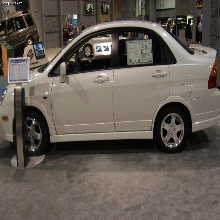no damage: (1, 19, 220, 157), (1, 11, 40, 55)
